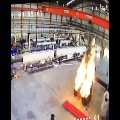fire: (75, 53, 95, 98)
